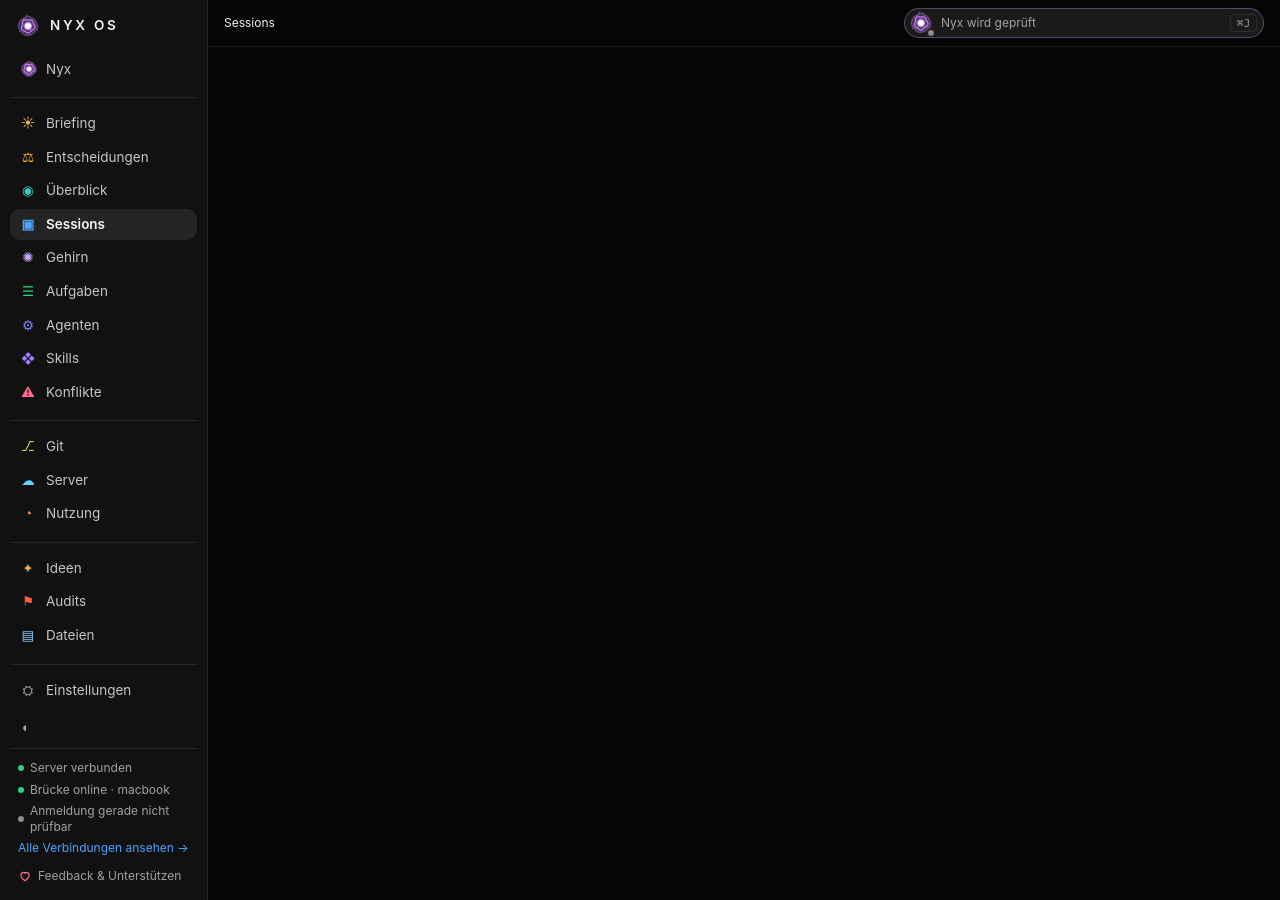
Routing › kein Reiter der Leiste ist mehr ausgegraut; „Dateien“ führt nach /files
Click the link "▤ Dateien".
click(58, 635)  # box [22,627,95,643]
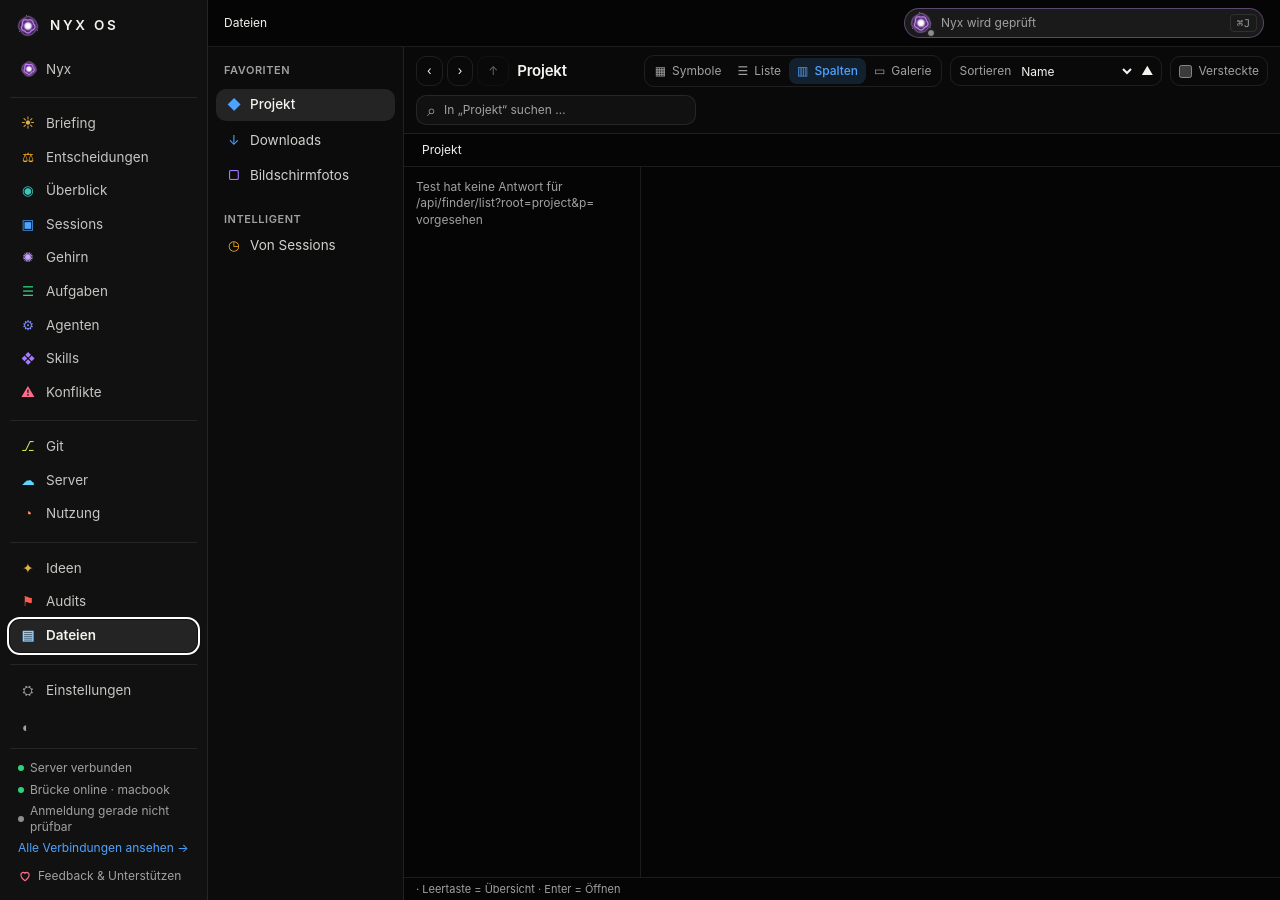
Check: the text "Dateien" is shown, box [224,15,267,31]
Check: the navigation bar "Favoriten" is shown, box [208,47,404,899]
